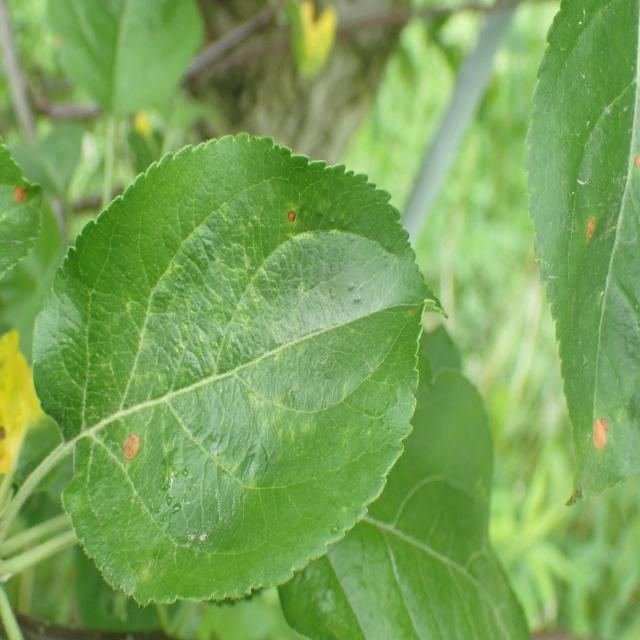Black Rot: (113, 406, 153, 490), (285, 200, 304, 247)
